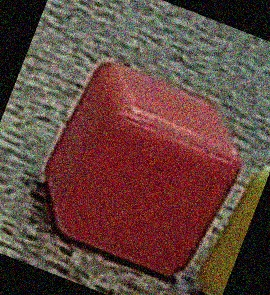red_cube: (40, 57, 245, 285)
